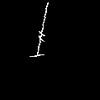treble_crochet: (30, 3, 47, 56)
